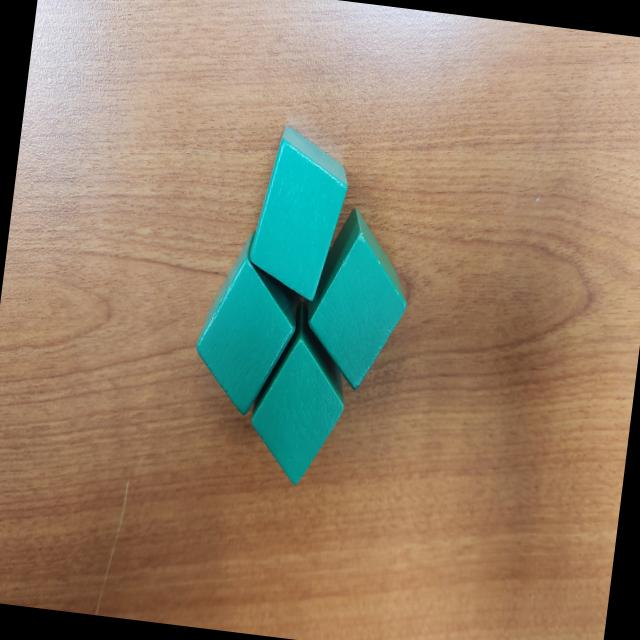green: (188, 224, 308, 420), (298, 204, 418, 396), (244, 121, 356, 305), (243, 308, 354, 491)
